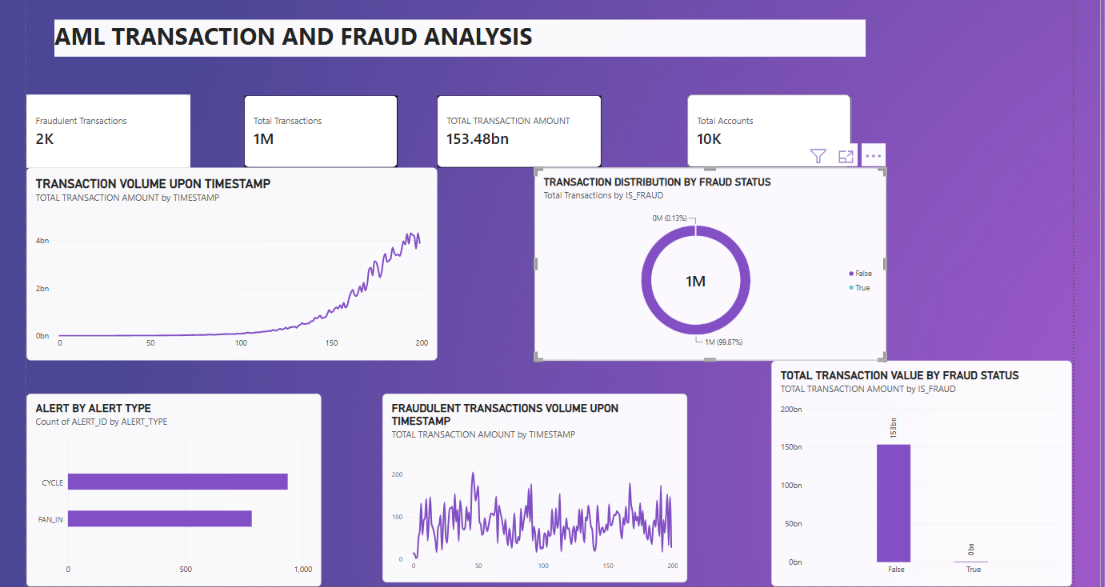

The page's visual inventory and layout, read from the dashboard file:
{"tool":"powerbi","page":{"name":"AML TRANSACTION AND FRAUD ANALYSIS","canvas":[1920,1080],"ordinal":0},"visuals":[{"type":"cardVisual","fields":{"Data":["transactions.Total Transactions"]},"box":[400.1,180.5,280.8,131.7],"z":0},{"type":"textbox","box":[51,39.7,1488.2,68],"z":1000},{"type":"cardVisual","fields":{"Data":["transactions.TOTAL TRANSACTION AMOUNT"]},"box":[753.9,180.5,300.7,131.7],"z":2000},{"type":"cardVisual","fields":{"Data":["accounts.Total Accounts"]},"box":[1212.6,178.1,300.7,134.2],"z":3000},{"type":"cardVisual","fields":{"Data":["transactions.Fraudulent Transactions"]},"box":[0,178.1,300.7,134.2],"z":4000},{"type":"lineChart","title":"TRANSACTION VOLUME UPON TIMESTAMP","fields":{"Category":["transactions.TIMESTAMP"],"Y":["transactions.TOTAL TRANSACTION AMOUNT"]},"box":[0,312.3,753.9,353.8],"z":5000},{"type":"lineChart","title":"FRAUDULENT TRANSACTIONS VOLUME UPON TIMESTAMP","fields":{"Category":["transactions.TIMESTAMP"],"Y":["transactions.TOTAL TRANSACTION AMOUNT"]},"box":[653,726.4,559.4,346.7],"z":6000},{"type":"donutChart","title":"TRANSACTION DISTRIBUTION BY FRAUD STATUS","fields":{"Category":["transactions.IS_FRAUD"],"Y":["transactions.Total Transactions"]},"box":[931.8,311.8,645.7,354],"z":7000},{"type":"clusteredBarChart","title":"ALERT BY ALERT TYPE","fields":{"Category":["alerts.ALERT_TYPE"],"Y":["CountNonNull(alerts.ALERT_ID)"]},"box":[0,726.4,541.1,354],"z":8000},{"type":"clusteredColumnChart","title":"TOTAL TRANSACTION VALUE BY FRAUD STATUS","fields":{"Category":["transactions.IS_FRAUD"],"Y":["transactions.TOTAL TRANSACTION AMOUNT"]},"box":[1366.3,666.1,551.4,414.8],"z":9000}]}

Visuals, with their boxes on the page's 1920x1080 design canvas (x1, y1, x2, y2). These are canvas units, not pixel positions in the 1105x587 screenshot, which may show the page scaled, cropped or inside an application window:
cardVisual - transactions.Total Transactions: Rect(400, 180, 681, 312)
textbox: Rect(51, 40, 1539, 108)
cardVisual - transactions.TOTAL TRANSACTION AMOUNT: Rect(754, 180, 1055, 312)
cardVisual - accounts.Total Accounts: Rect(1213, 178, 1513, 312)
cardVisual - transactions.Fraudulent Transactions: Rect(0, 178, 301, 312)
"TRANSACTION VOLUME UPON TIMESTAMP" lineChart: Rect(0, 312, 754, 666)
"FRAUDULENT TRANSACTIONS VOLUME UPON TIMESTAMP" lineChart: Rect(653, 726, 1212, 1073)
"TRANSACTION DISTRIBUTION BY FRAUD STATUS" donutChart: Rect(932, 312, 1578, 666)
"ALERT BY ALERT TYPE" clusteredBarChart: Rect(0, 726, 541, 1080)
"TOTAL TRANSACTION VALUE BY FRAUD STATUS" clusteredColumnChart: Rect(1366, 666, 1918, 1081)
